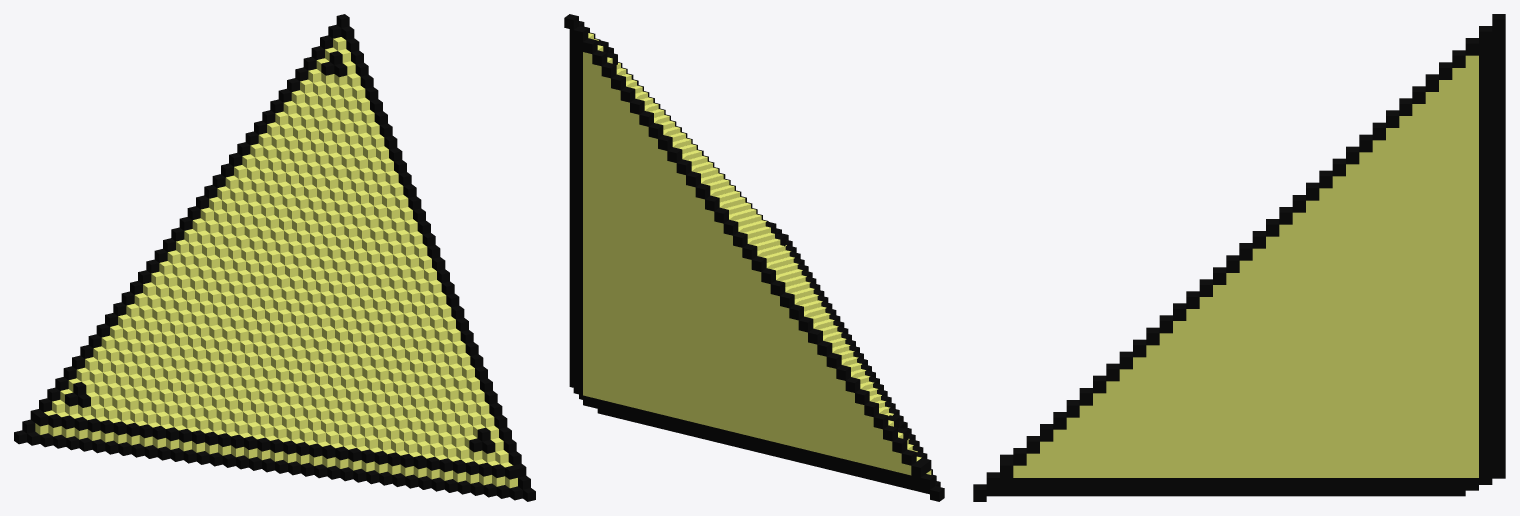
The model's file is monolith_shield.glb.
3 views of the same model, side by side, from view 1: azimuth 30°, elevation 25°; view 2: azimuth 150°, elevation 25°; view 3: azimuth 270°, elevation 25° (orthographic). The views are drawn at different scales.
Parts seen in each view (by area): view 1: Mesh_0; view 2: Mesh_0; view 3: Mesh_0.
Part boxes in pixels (x1=…): Mesh_0: x1=14, y1=14, x2=535, y2=501; Mesh_0: x1=564, y1=14, x2=944, y2=501; Mesh_0: x1=973, y1=14, x2=1505, y2=501.
Size of the model in its own units: 40 by 40 by 40.
